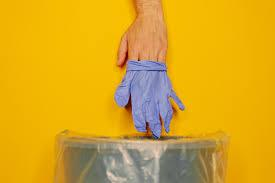Glove: (114, 60, 183, 137)
